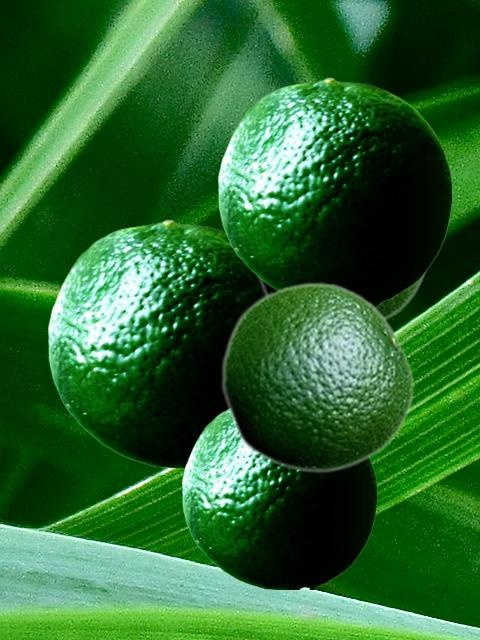calamansi: (218, 77, 451, 305), (48, 219, 261, 466), (220, 281, 414, 473), (182, 409, 376, 588), (254, 270, 429, 321)
